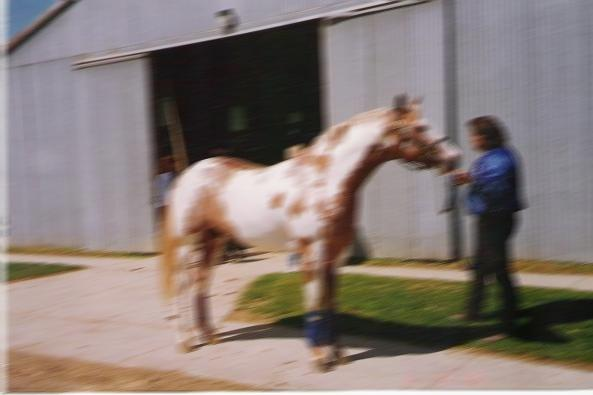horse: (156, 91, 460, 372)
